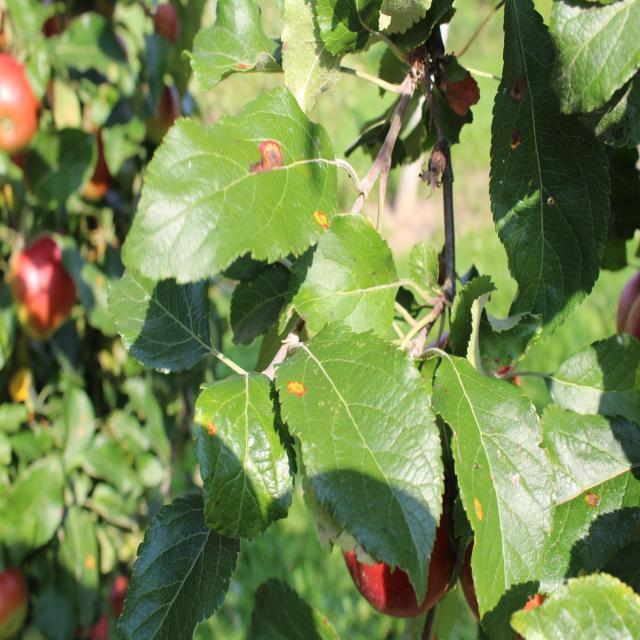Rust: (250, 140, 290, 180), (468, 488, 494, 536), (312, 199, 339, 245), (504, 117, 532, 160), (499, 76, 534, 108), (282, 372, 312, 405), (579, 482, 601, 519), (204, 418, 222, 448)
